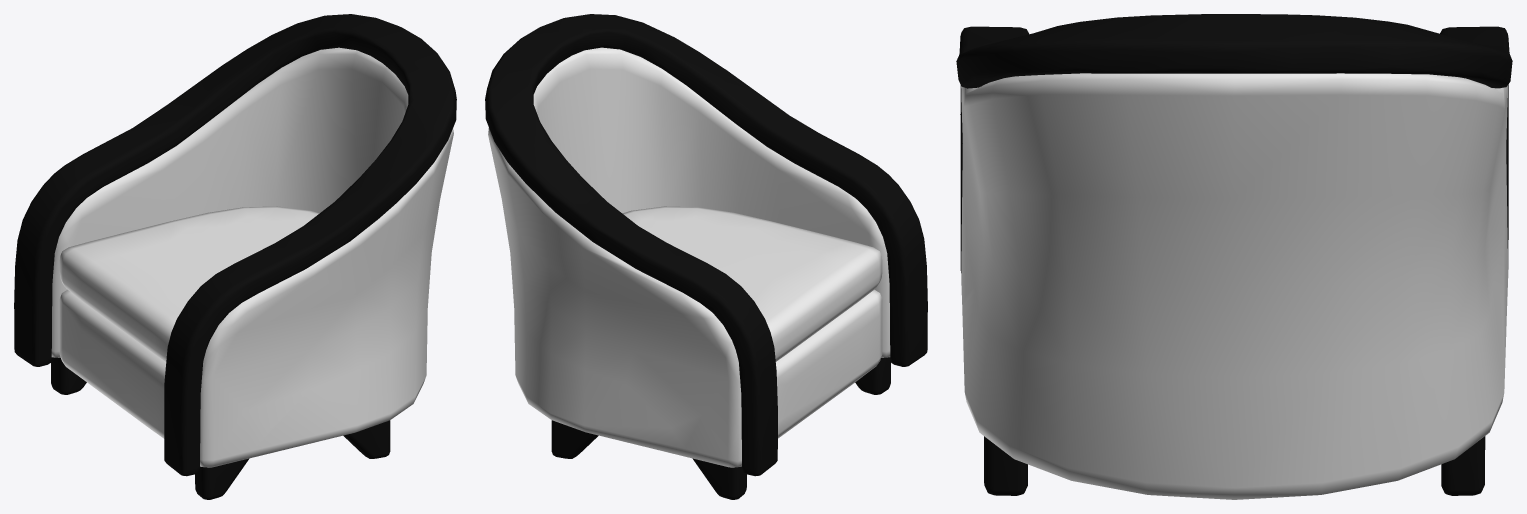
The model's file is armchair_03_white_black.fbx.
3 renders of one model, left to right at view 1: azimuth 30°, elevation 25°; view 2: azimuth 150°, elevation 25°; view 3: azimuth 270°, elevation 25°, orthographic. The views are drawn at different scales.
Parts seen in each view (by area): view 1: armchair_03_white_black; view 2: armchair_03_white_black; view 3: armchair_03_white_black.
Part boxes in pixels (x1,y1,x2,y2): armchair_03_white_black: [14, 14, 456, 499]; armchair_03_white_black: [485, 14, 927, 499]; armchair_03_white_black: [956, 14, 1512, 499].
Bounding box in the file's own units: 110 × 108 × 101.
Materials: 1 (1 with a texture image).
